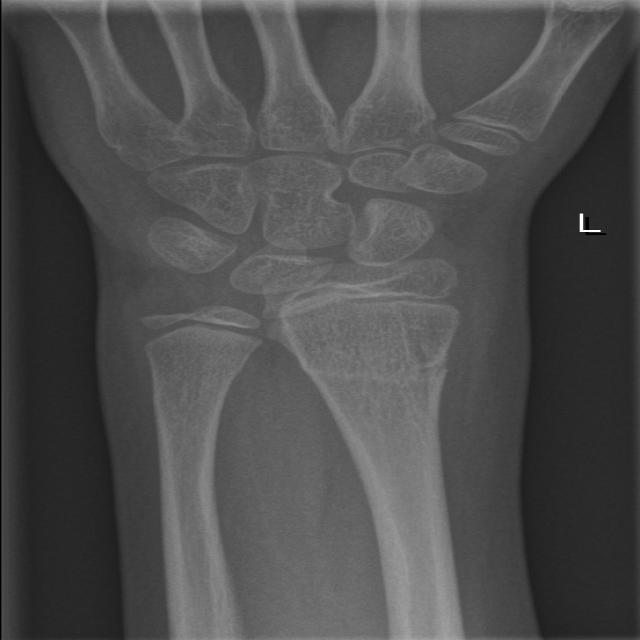radius fracture: (276, 332, 497, 436)
